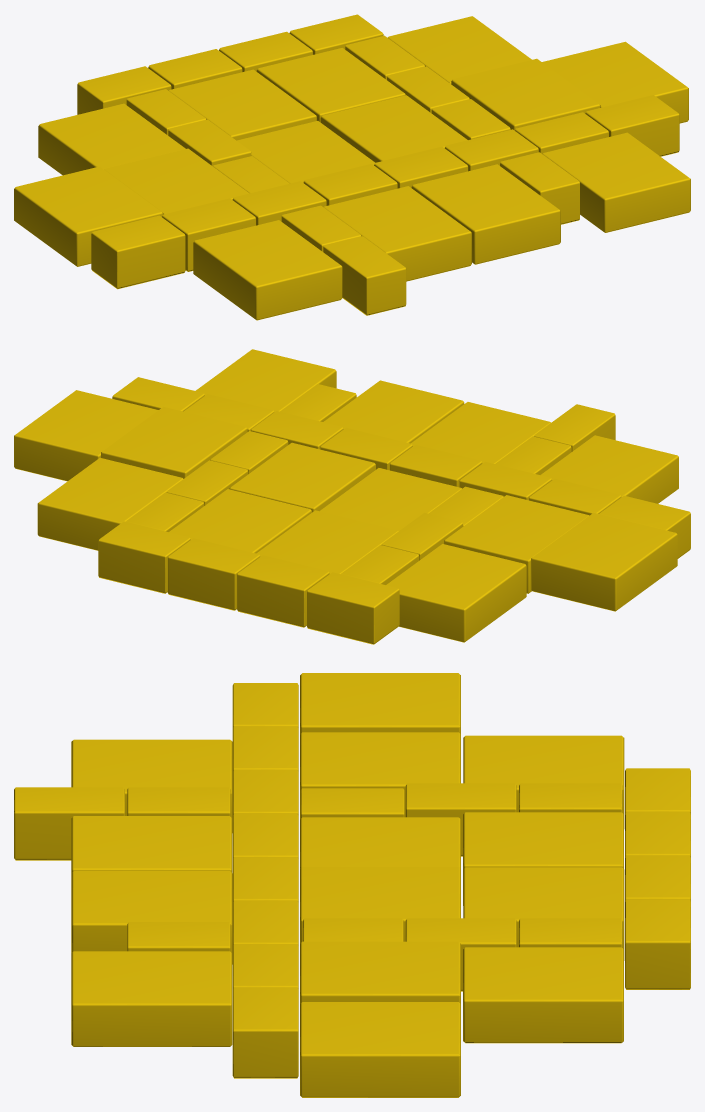
The model's file is Explosive_GroundBlocks.fbx.
3 views of the same model, one above another, from view 1: azimuth 30°, elevation 25°; view 2: azimuth 150°, elevation 25°; view 3: azimuth 270°, elevation 25° (orthographic). The views are drawn at different scales.
Visible parts, largest first — view 1: polySurface298, polySurface311, polySurface282, polySurface275, polySurface283, polySurface256, polySurface274, polySurface229, polySurface277, polySurface228, polySurface227, polySurface264 (+23 smaller); view 2: polySurface275, polySurface256, polySurface278, polySurface277, polySurface274, polySurface298, polySurface227, polySurface257, polySurface122, polySurface228, polySurface311, polySurface282 (+23 smaller); view 3: polySurface278, polySurface311, polySurface277, polySurface282, polySurface274, polySurface275, polySurface229, polySurface257, polySurface283, polySurface228, polySurface227, polySurface256 (+23 smaller).
Boxes of the visible parts, left/top/right/bottom form: polySurface298: left=193, top=220, right=342, bottom=320; polySurface311: left=542, top=132, right=690, bottom=232; polySurface282: left=411, top=164, right=560, bottom=264; polySurface275: left=14, top=166, right=163, bottom=266; polySurface283: left=324, top=186, right=471, bottom=281; polySurface256: left=38, top=103, right=185, bottom=175; polySurface274: left=451, top=58, right=600, bottom=130; polySurface229: left=169, top=69, right=316, bottom=140; polySurface277: left=542, top=41, right=688, bottom=123; polySurface228: left=256, top=48, right=405, bottom=122; polySurface227: left=320, top=95, right=467, bottom=162; polySurface264: left=91, top=215, right=185, bottom=289; polySurface275: left=531, top=512, right=677, bottom=611; polySurface256: left=386, top=544, right=526, bottom=642; polySurface278: left=37, top=458, right=183, bottom=550; polySurface277: left=14, top=390, right=158, bottom=481; polySurface274: left=101, top=407, right=247, bottom=478; polySurface298: left=540, top=435, right=678, bottom=503; polySurface227: left=229, top=442, right=375, bottom=512; polySurface257: left=444, top=495, right=589, bottom=593; polySurface122: left=307, top=572, right=399, bottom=644; polySurface228: left=169, top=489, right=311, bottom=553; polySurface311: left=195, top=349, right=336, bottom=411; polySurface282: left=323, top=380, right=464, bottom=443; polySurface278: left=463, top=947, right=623, bottom=1043; polySurface311: left=71, top=951, right=232, bottom=1046; polySurface277: left=300, top=1002, right=460, bottom=1097; polySurface282: left=71, top=871, right=232, bottom=964; polySurface274: left=300, top=941, right=460, bottom=1003; polySurface275: left=300, top=673, right=460, bottom=733; polySurface229: left=463, top=812, right=623, bottom=905; polySurface257: left=300, top=732, right=460, bottom=818; polySurface283: left=71, top=816, right=232, bottom=872; polySurface228: left=463, top=867, right=624, bottom=960; polySurface227: left=300, top=867, right=460, bottom=943; polySurface256: left=463, top=735, right=624, bottom=828.
Bounding box in the file's own units: 5.87 × 0.4164 × 4.44.
